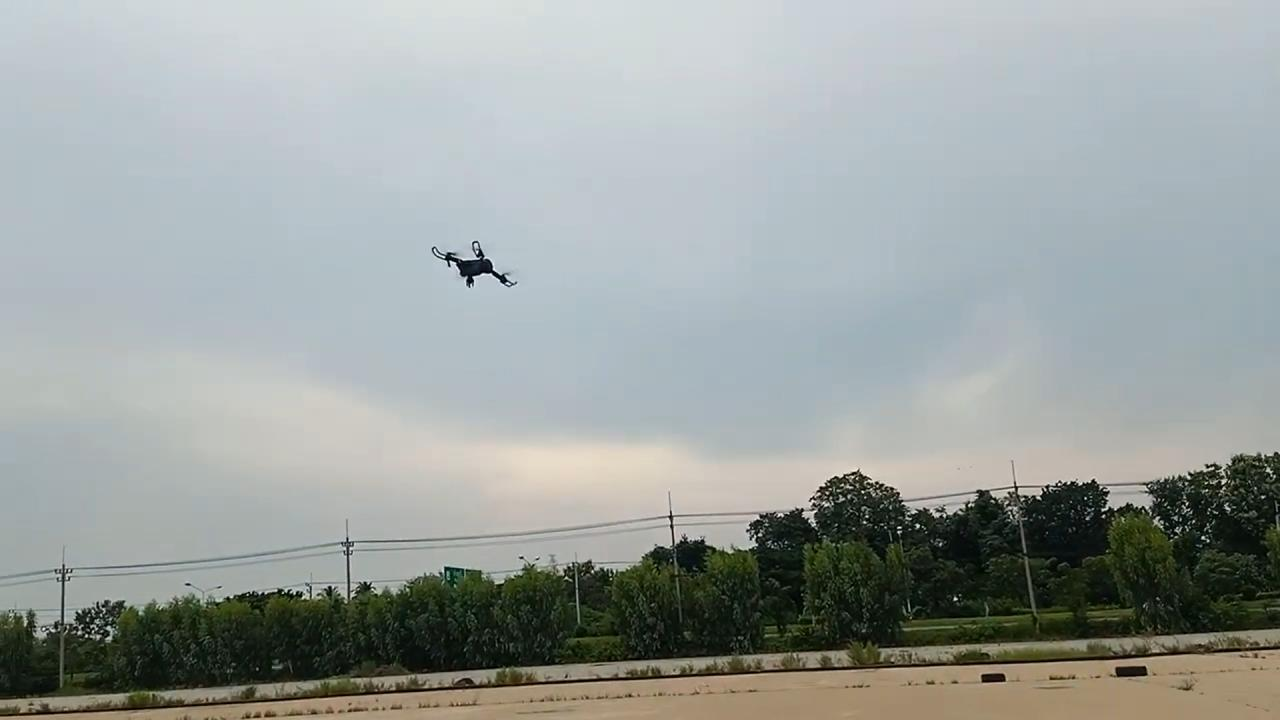Drone: (422, 228, 526, 304)
